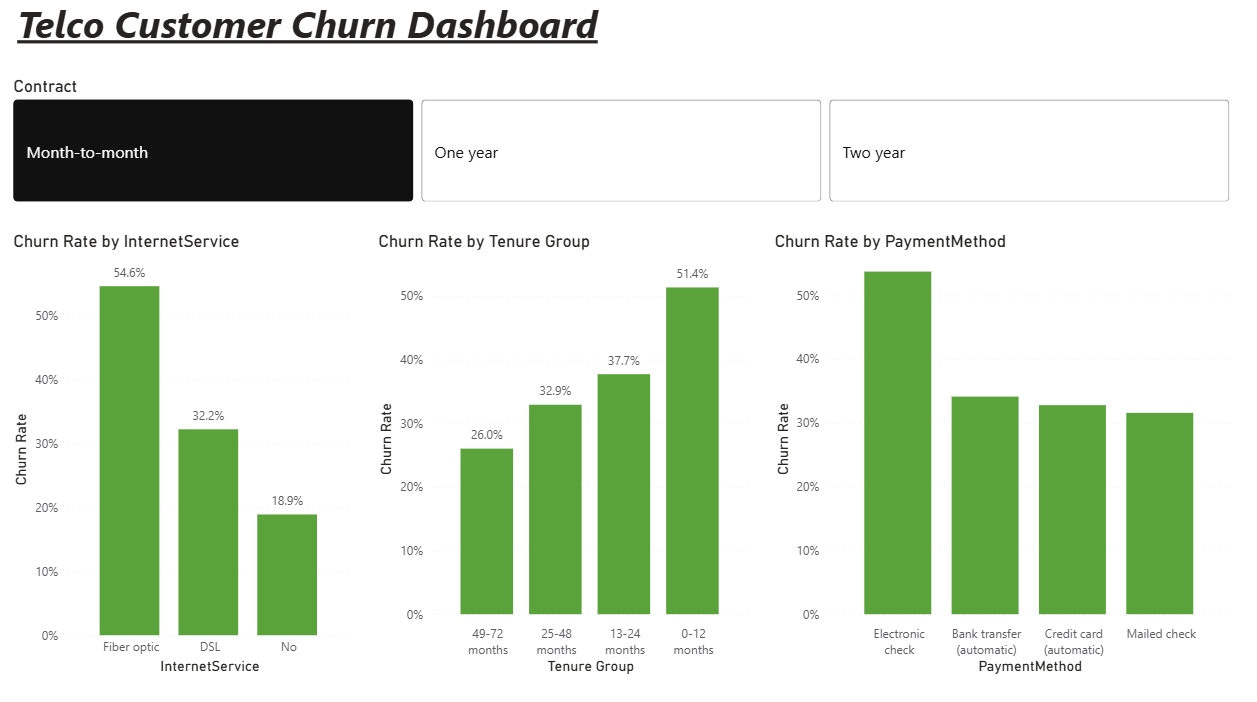

The dashboard page shown, as its layout file describes it:
{"tool":"powerbi","page":{"name":"Churn Drivers","canvas":[1280,720],"ordinal":1},"visuals":[{"type":"clusteredColumnChart","fields":{"Category":["Telco.InternetService"],"Y":["Telco.Churn Rate"]},"box":[12.3,237.4,348.5,448.7],"z":0},{"type":"clusteredColumnChart","fields":{"Category":["Telco.Tenure Group"],"Y":["Telco.Churn Rate"]},"box":[377.4,237.4,380.1,448.7],"z":1000},{"type":"clusteredColumnChart","fields":{"Category":["Telco.PaymentMethod"],"Y":["Telco.Churn Rate"]},"box":[773.9,237.4,466.6,448.7],"z":2000},{"type":"advancedSlicerVisual","fields":{"Values":["Telco.Contract"]},"box":[12.3,82.3,1228.1,131.7],"z":3000},{"type":"textbox","box":[16.5,0,623,68.6],"z":4000}]}

Visuals, with their boxes in screenshot pixels (x1, y1, x2, y2), scaled from the page's 1280x720 canvas onto the 1257x702 screenshot:
clusteredColumnChart - Telco.InternetService x Telco.Churn Rate: {"x1": 12, "y1": 231, "x2": 354, "y2": 669}
clusteredColumnChart - Telco.Tenure Group x Telco.Churn Rate: {"x1": 371, "y1": 231, "x2": 744, "y2": 669}
clusteredColumnChart - Telco.PaymentMethod x Telco.Churn Rate: {"x1": 760, "y1": 231, "x2": 1218, "y2": 669}
advancedSlicerVisual - Telco.Contract: {"x1": 12, "y1": 80, "x2": 1218, "y2": 209}
textbox: {"x1": 16, "y1": 0, "x2": 628, "y2": 67}
